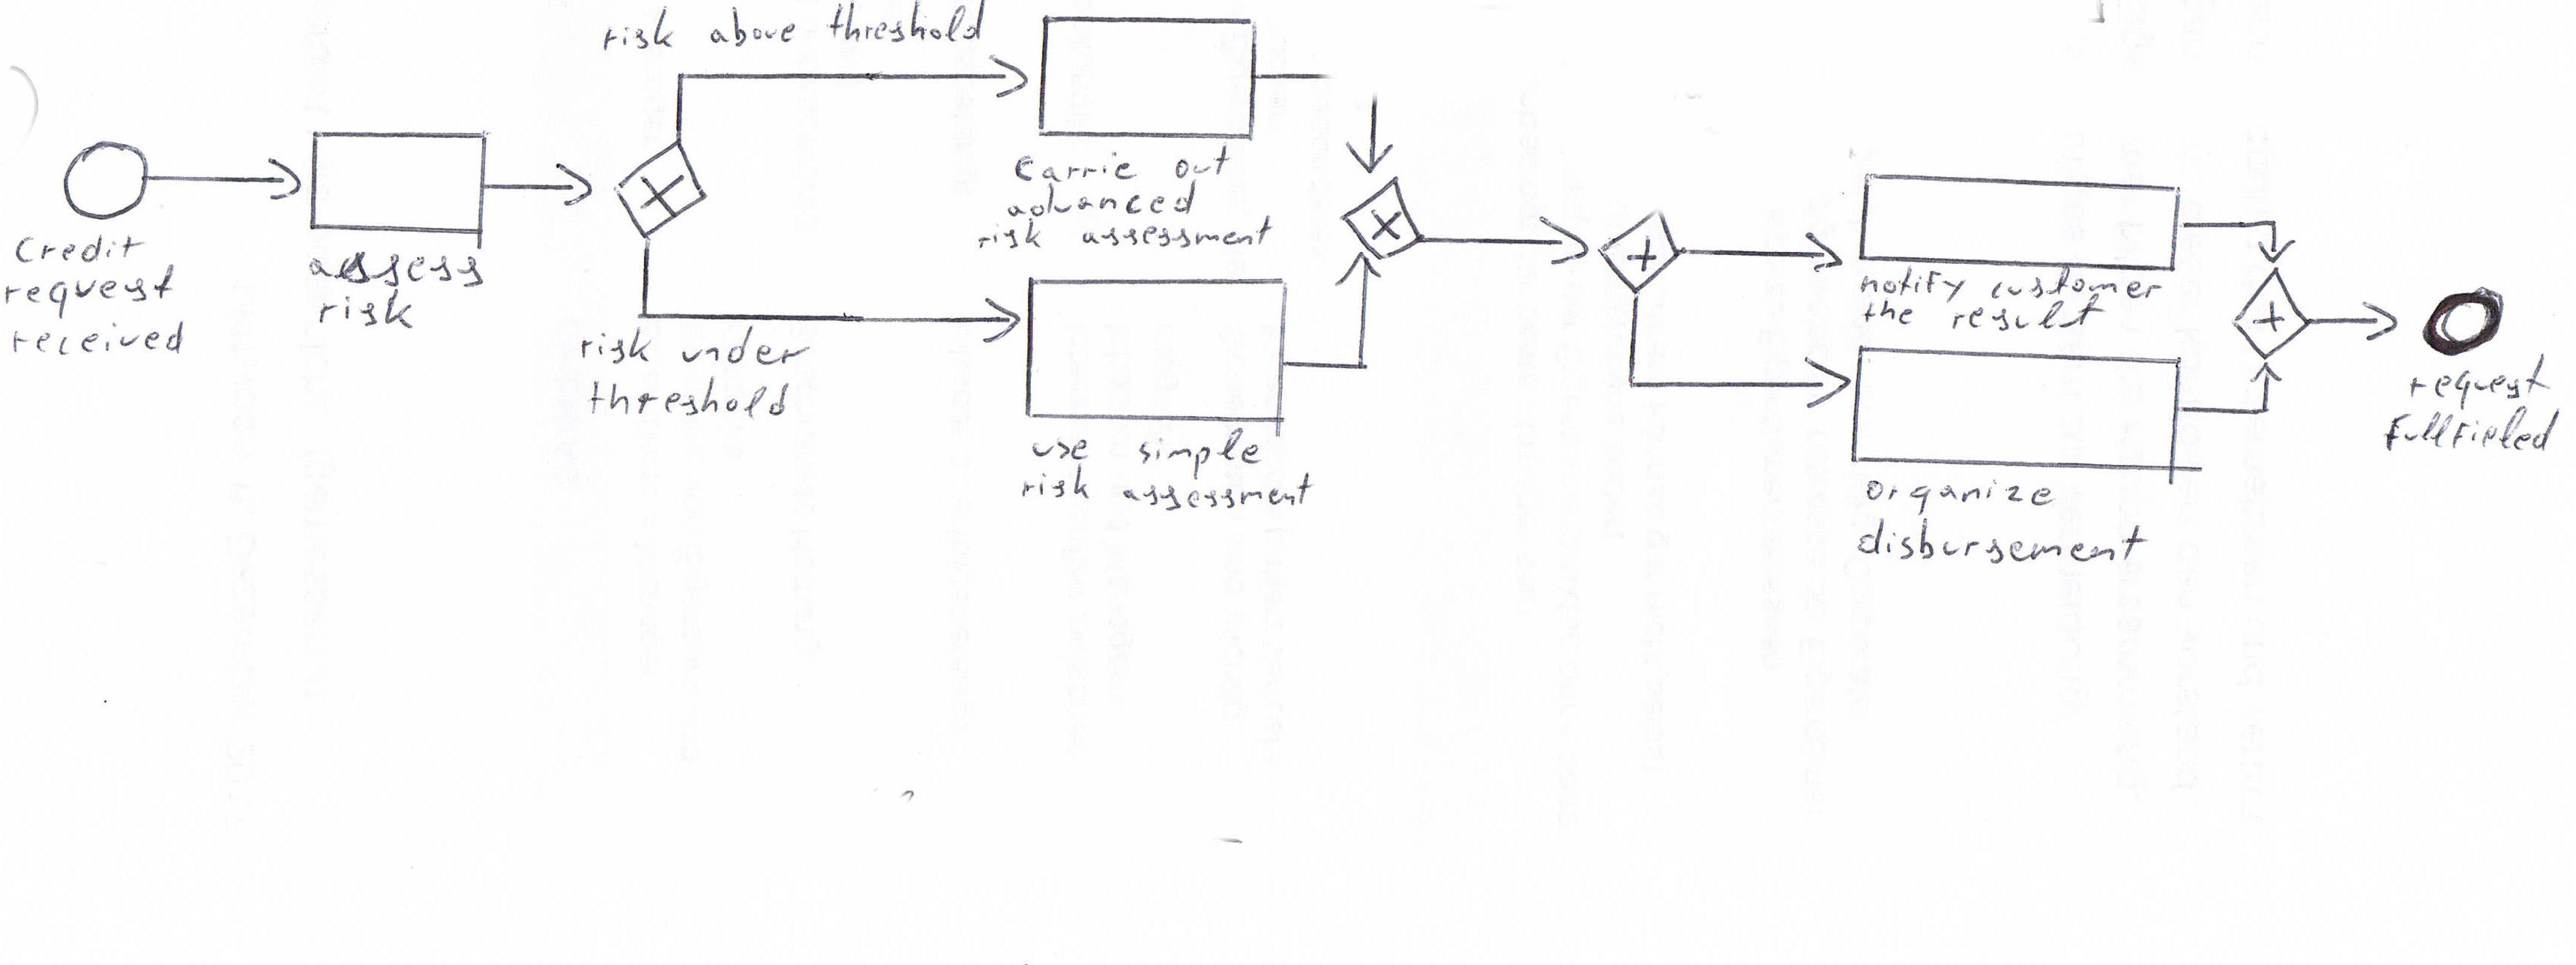Carrie: (1010, 148, 1142, 187)
Credit: (10, 229, 149, 268)
Fullfilled: (2380, 401, 2566, 455)
above: (705, 2, 800, 51)
advanced: (1002, 176, 1201, 222)
asjess: (302, 248, 488, 291)
assessment: (1119, 469, 1318, 516), (1078, 210, 1276, 252)
customer: (1986, 261, 2167, 304)
disbursement: (1852, 513, 2150, 570)
notify: (1855, 263, 1970, 307)
organize: (1861, 475, 2058, 521)
out: (1170, 140, 1234, 182)
received: (8, 316, 187, 360)
request: (0, 261, 181, 324), (2405, 350, 2556, 414)
result: (1947, 291, 2111, 335)
risk: (315, 286, 419, 334), (596, 2, 678, 58), (575, 322, 655, 368), (1017, 460, 1094, 503), (973, 214, 1046, 253)
simple: (1134, 424, 1265, 485)
the: (1860, 298, 1916, 327)
threshold: (583, 372, 793, 424), (821, 0, 989, 48)
under: (677, 322, 813, 370)
use: (1027, 436, 1094, 464)
